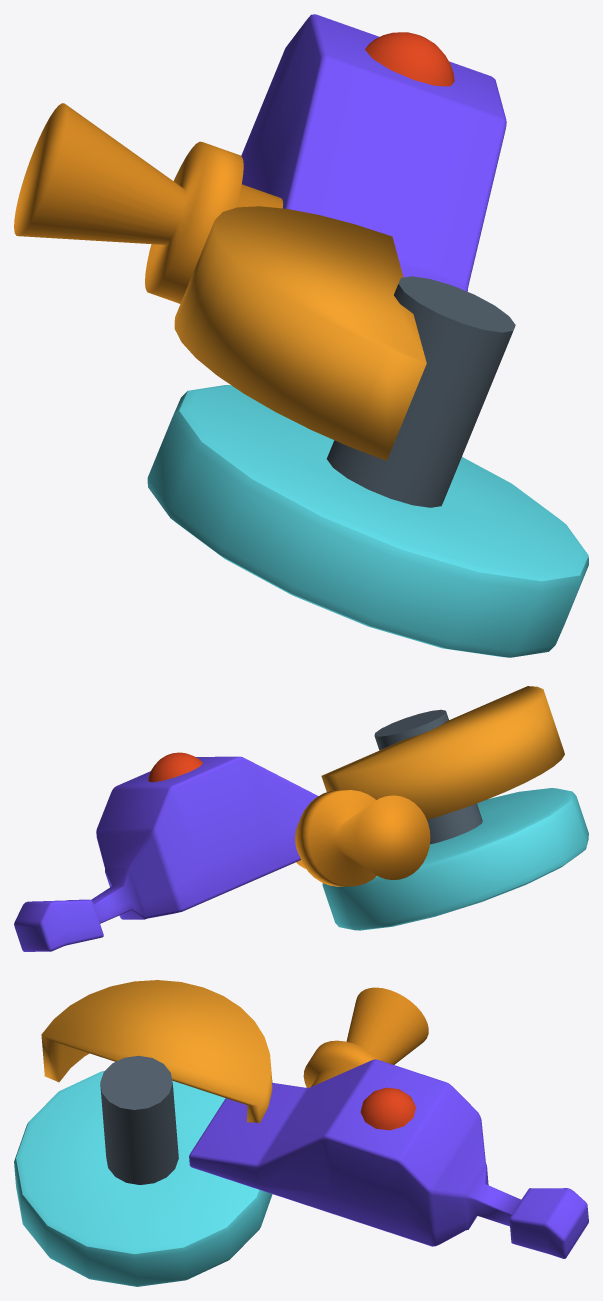
File: PolishMachine.fbx
The picture shows the model from 3 angles, top to bottom: view 1: azimuth 30°, elevation 25°; view 2: azimuth 150°, elevation 25°; view 3: azimuth 270°, elevation 25°; orthographic projection. The views are drawn at different scales.
Visible parts, largest first — view 1: Body, Rotate; view 2: Body, Rotate; view 3: Body, Rotate.
Part boxes in pixels (x1,y1,x2,y2): Body: (14, 14, 506, 460); Rotate: (147, 276, 588, 657); Body: (14, 686, 564, 951); Rotate: (322, 709, 588, 930); Body: (41, 980, 588, 1258); Rotate: (14, 1055, 272, 1286).
Bounding box in the file's own units: 0.4025 × 0.2717 × 0.6212.
